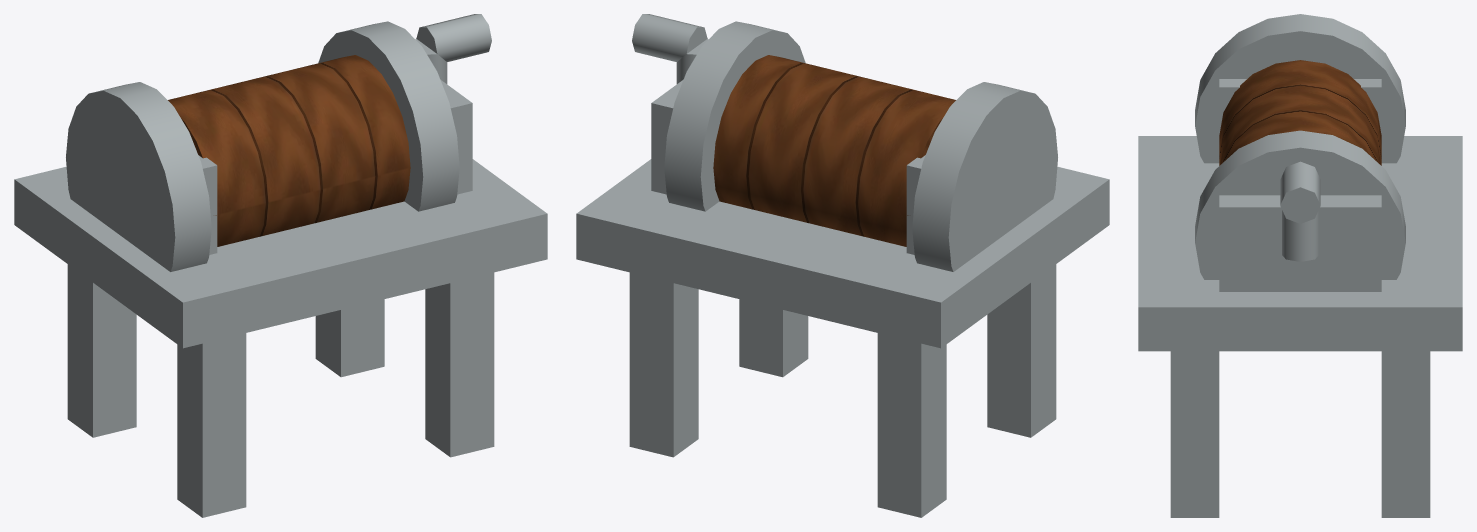
File: suburban-outbreak-interiors-laundry-drum-assembly-b3a92d13__20001.glb
3 renders of one model, left to right at view 1: azimuth 30°, elevation 25°; view 2: azimuth 150°, elevation 25°; view 3: azimuth 270°, elevation 25°, orthographic. The views are drawn at different scales.
Visible parts, largest first — view 1: laundry-drum-assembly; view 2: laundry-drum-assembly; view 3: laundry-drum-assembly.
Part boxes in pixels (<box>): laundry-drum-assembly: <box>14,14,547,517</box>; laundry-drum-assembly: <box>576,14,1109,517</box>; laundry-drum-assembly: <box>1138,14,1462,517</box>.
Bounding box in the file's own units: 0.525 × 0.49 × 0.4.
2 materials, 1 textured.
